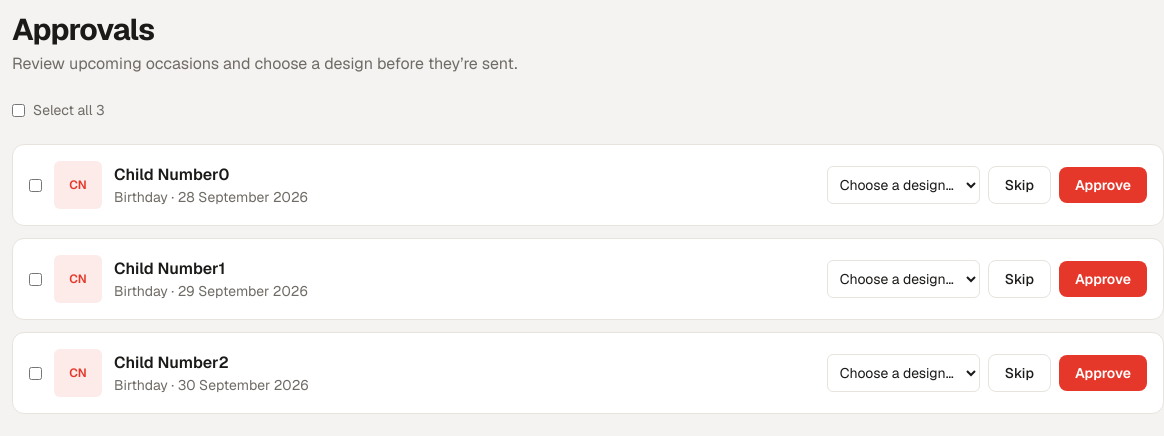
ApprovalsClient › offers a way back the moment something is skipped
Click the button "Skip" in the row of "28 September 2026" at {"x": 1019, "y": 185}, box [988,166,1051,204]
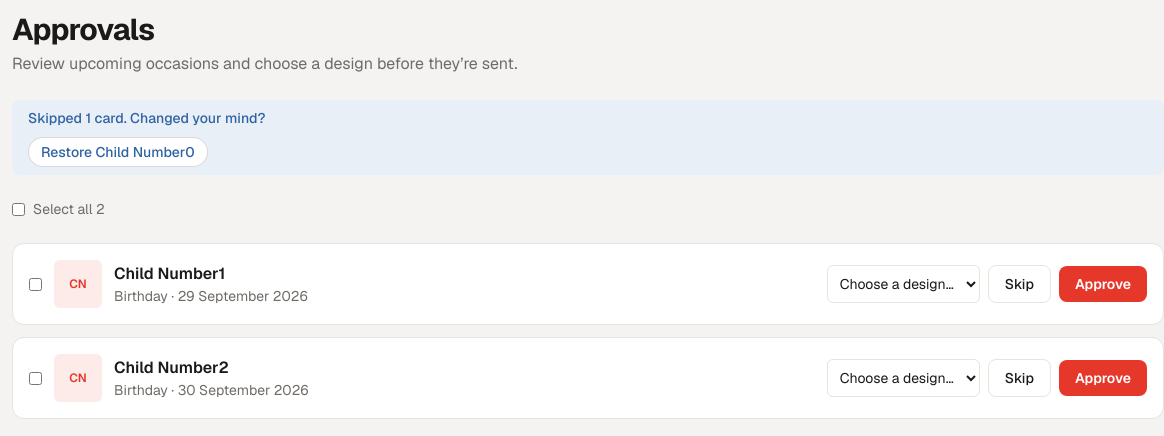
Result: the text "Skipped 1 card. Changed your mind?" is shown at [28,109,265,127]
Result: the button "Restore Child Number0" is shown at [28,137,208,167]
Result: the number of buttons "Skip" is 2 at [988,265,1051,303]; [988,359,1051,397]
